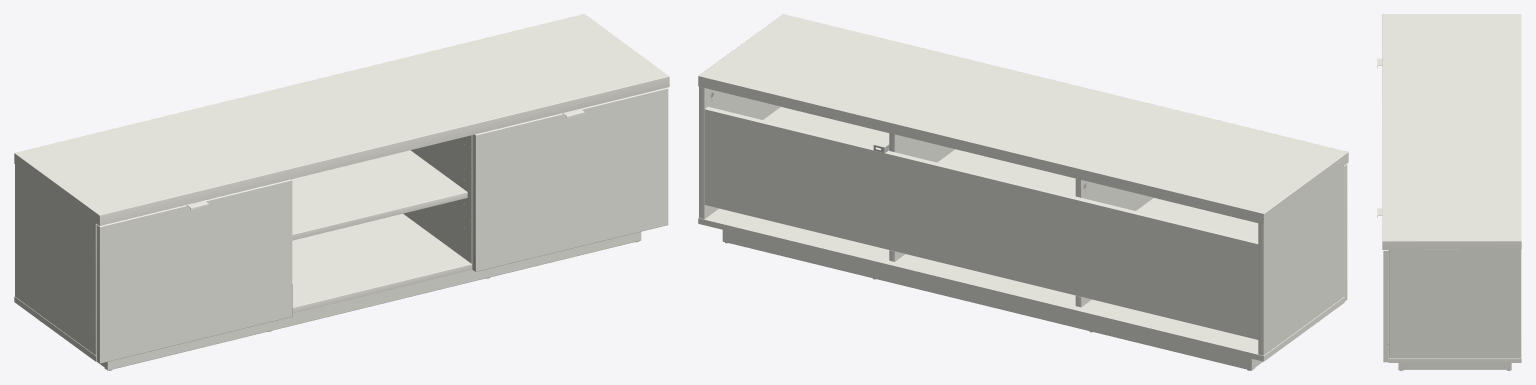
The model's file is 01 - BYÅS TV bench - high-gloss white 160x42x45 cm.glb.
3 renders of one model, left to right at view 1: azimuth 30°, elevation 25°; view 2: azimuth 150°, elevation 25°; view 3: azimuth 270°, elevation 25°, orthographic. The views are drawn at different scales.
Parts seen in each view (by area): view 1: Mesh_1; view 2: Mesh_1; view 3: Mesh_1.
Part boxes in pixels (x1,y1,x2,y2): Mesh_1: (14, 14, 669, 370); Mesh_1: (698, 14, 1348, 370); Mesh_1: (1377, 14, 1521, 370).
Size of the model in its own units: 1.6 by 0.451 by 0.43.
2 materials, 1 textured.
